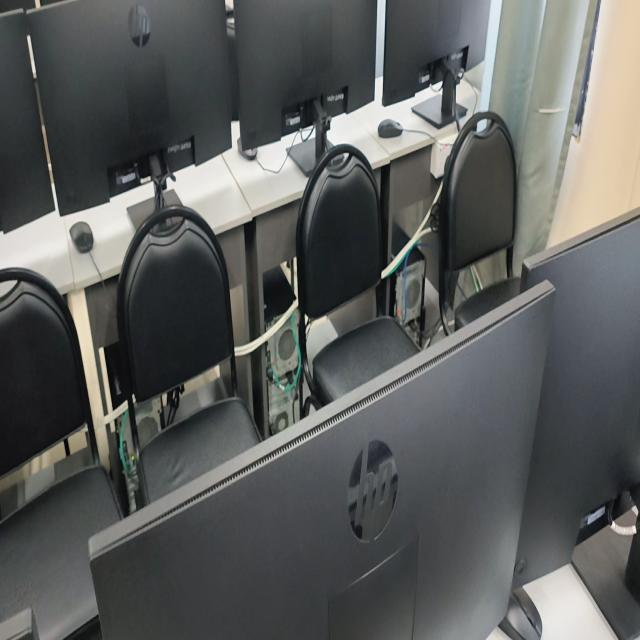Chair: (0, 268, 122, 639), (117, 205, 261, 507), (296, 143, 420, 406), (438, 111, 521, 335)
Monitor: (89, 281, 555, 639), (512, 217, 640, 589), (28, 0, 231, 215), (235, 0, 377, 150), (537, 303, 613, 502), (0, 12, 55, 233), (382, 0, 489, 105)
